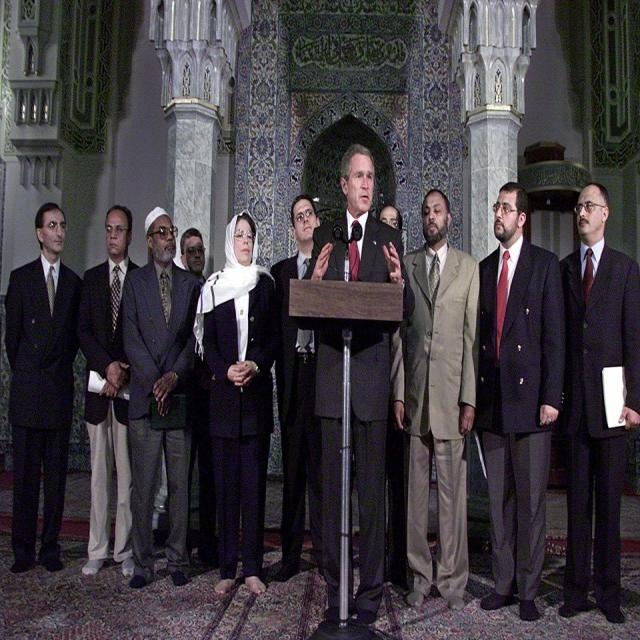body: (291, 139, 417, 625), (469, 178, 569, 625), (388, 186, 482, 615), (557, 181, 639, 626), (119, 202, 204, 592), (2, 198, 87, 577), (203, 212, 278, 596), (78, 203, 143, 583), (267, 191, 323, 585), (378, 203, 414, 595), (180, 226, 208, 293)
